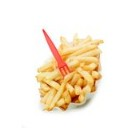frenchfries: (39, 35, 102, 107)
